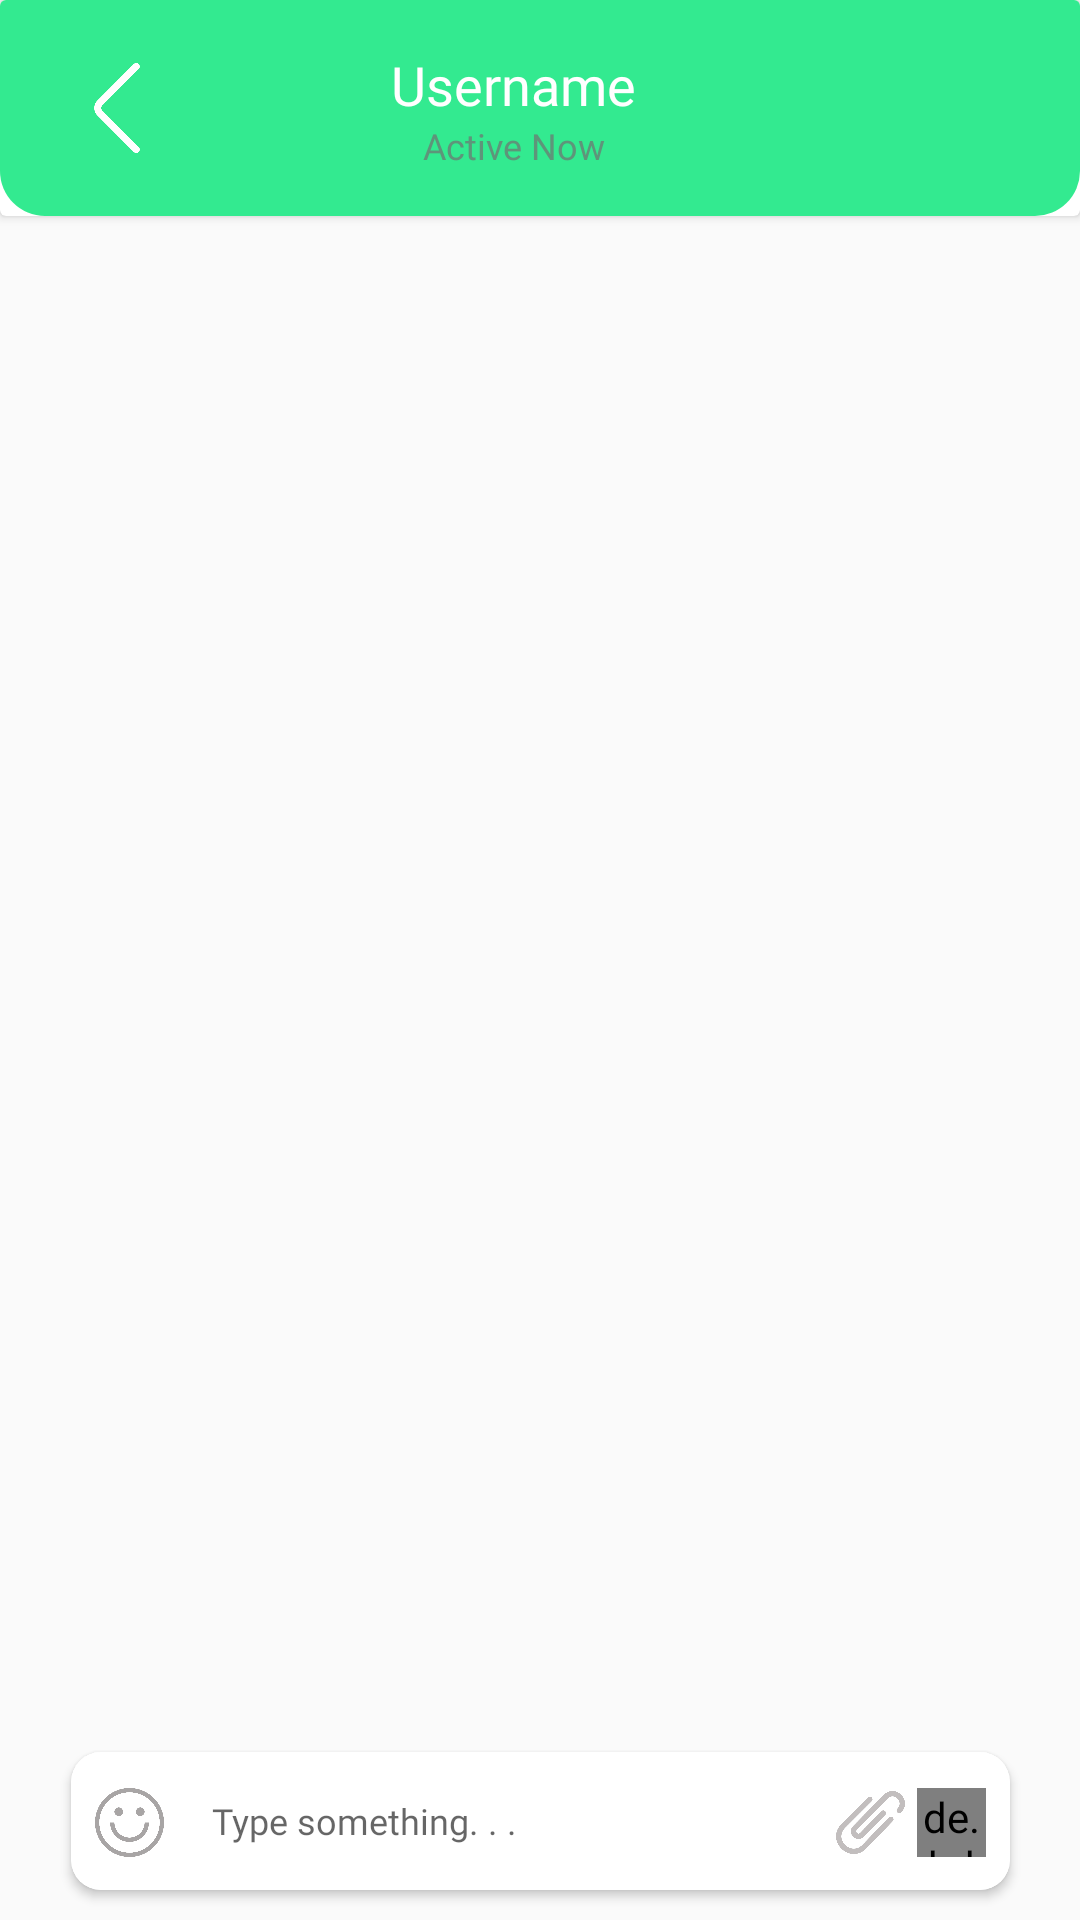

Locate icon controls on the screen. Image size 1080px×1920px, boxes as box=[x1, y1, x2, y2].
back: box=[94, 63, 140, 153]
clip: box=[836, 1791, 905, 1854]
emoji: box=[95, 1788, 164, 1857]
